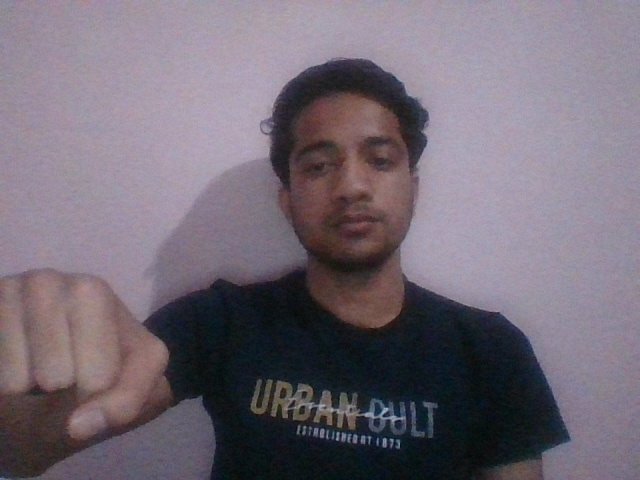yes: (1, 268, 175, 442)
